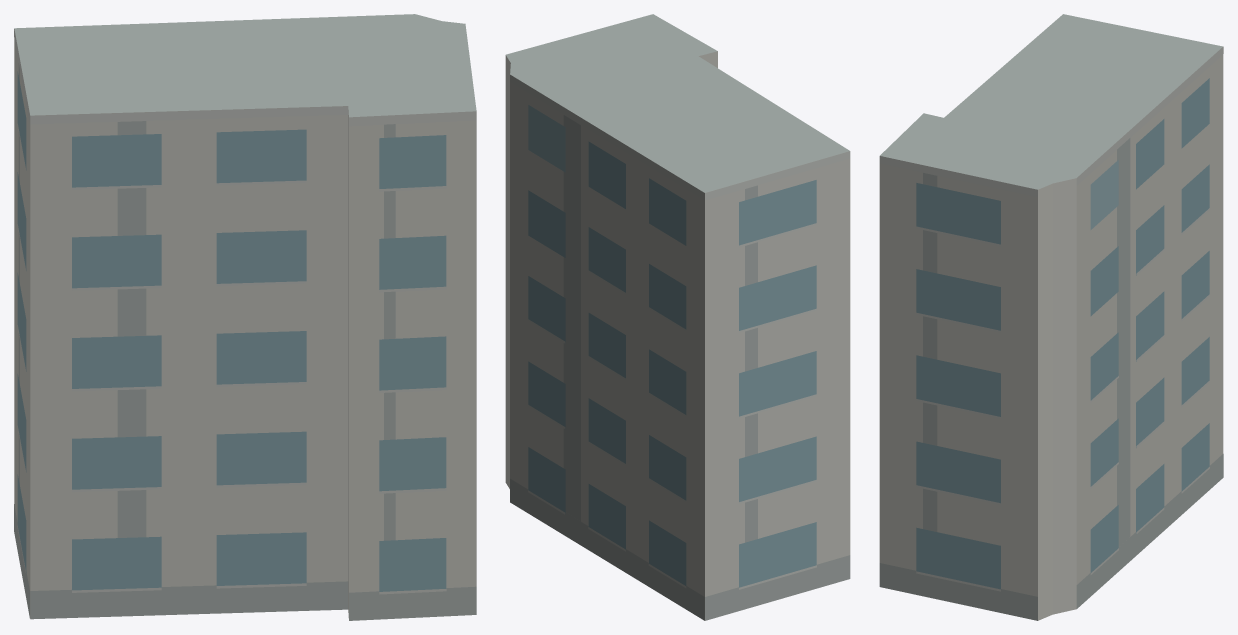
File: survey-upis-32909545.glb
3 views of the same model, side by side, from view 1: azimuth 30°, elevation 25°; view 2: azimuth 150°, elevation 25°; view 3: azimuth 270°, elevation 25° (orthographic). The views are drawn at different scales.
Parts seen in each view (by area): view 1: survey-upis-32909545.tmp; view 2: survey-upis-32909545.tmp; view 3: survey-upis-32909545.tmp.
Boxes of the visible parts, x1,y1,x2,y2 form: survey-upis-32909545.tmp: (14, 14, 476, 620); survey-upis-32909545.tmp: (505, 14, 850, 620); survey-upis-32909545.tmp: (879, 14, 1223, 620).
Bounding box in the file's own units: 11.98 × 13.7 × 9.91.
